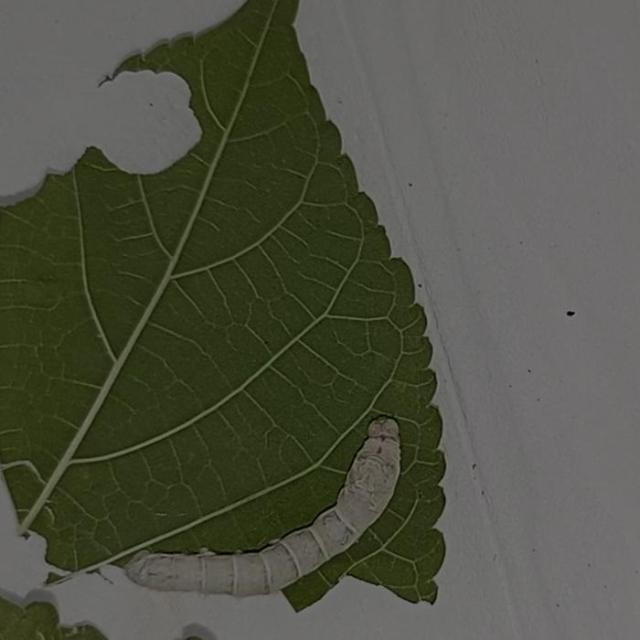Healthy: (110, 412, 416, 608)
